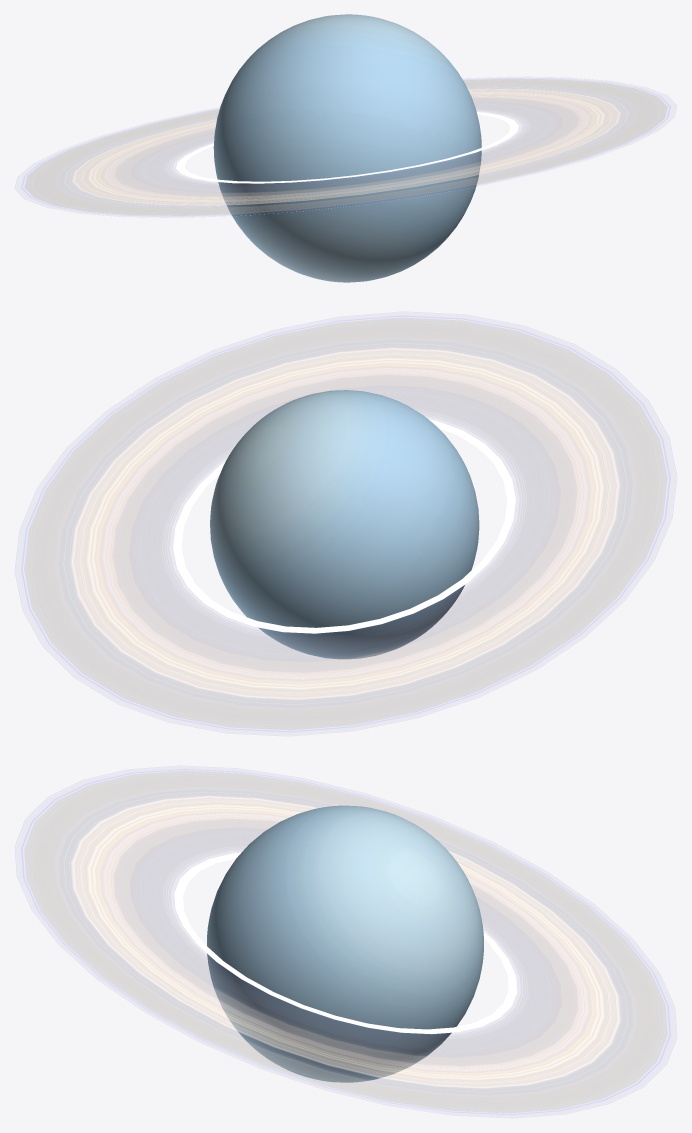
File: uranus.glb
3 views of the same model, one above another, from view 1: azimuth 30°, elevation 25°; view 2: azimuth 150°, elevation 25°; view 3: azimuth 270°, elevation 25° (orthographic). The views are drawn at different scales.
Parts seen in each view (by area): view 1: Circle; view 2: Circle; view 3: Circle.
Boxes of the visible parts, x1,y1,x2,y2 form: Circle: (14, 14, 677, 282); Circle: (14, 311, 677, 736); Circle: (14, 765, 677, 1118).
Size of the model in its own units: 29.27 by 11.73 by 28.11.
2 materials, 2 textured.
